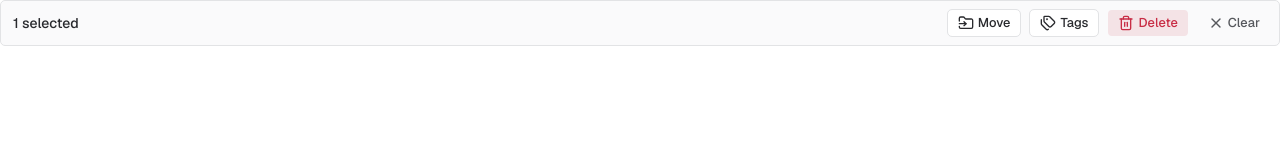
Test case: LibraryItemActions tag menu › explains when no tags have been created
Press the mouse on the button "Tags" at [1064, 23], box [1030,9,1100,37]
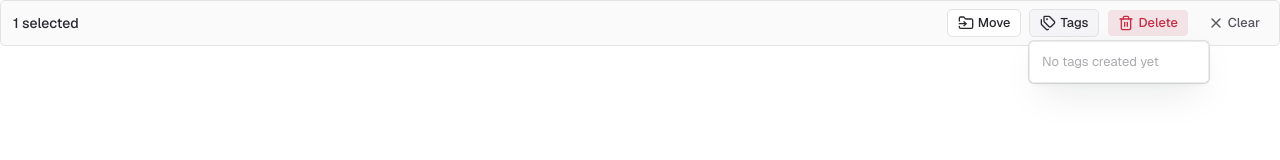
Expected: the menu item "No tags created yet" is shown, [1042,53,1159,70]
